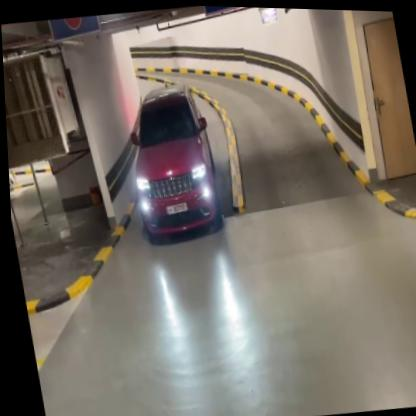np: (161, 199, 187, 215)
